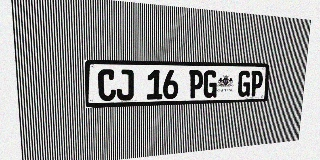1: (147, 70, 163, 100)
6: (163, 70, 179, 99)
C: (98, 69, 116, 101)
G: (203, 70, 218, 98), (237, 70, 251, 97)
J: (116, 69, 134, 101)
P: (188, 70, 204, 98), (250, 71, 263, 96)
